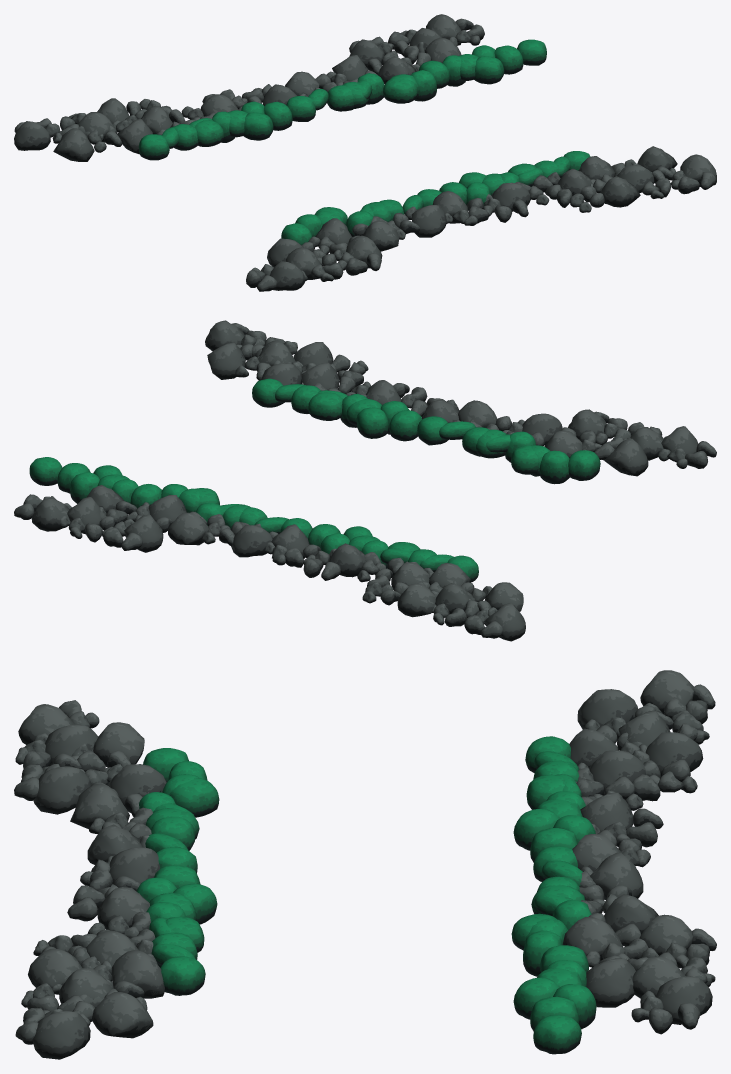
Rendered from Props lvl 5.fbx.
The picture shows the model from 3 angles, top to bottom: view 1: azimuth 30°, elevation 25°; view 2: azimuth 150°, elevation 25°; view 3: azimuth 270°, elevation 25°; orthographic projection. The views are drawn at different scales.
Parts seen in each view (by area): view 1: rock.005; view 2: rock.005; view 3: rock.005.
Boxes of the visible parts, x1,y1,x2,y2 form: rock.005: (14, 14, 716, 291); rock.005: (14, 320, 716, 641); rock.005: (14, 670, 716, 1059).
Size of the model in its own units: 2900 by 172 by 2370.
